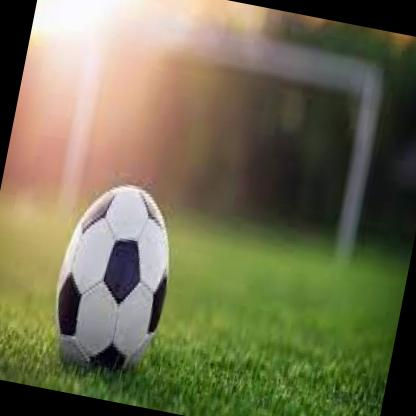ball: (42, 176, 186, 385)
